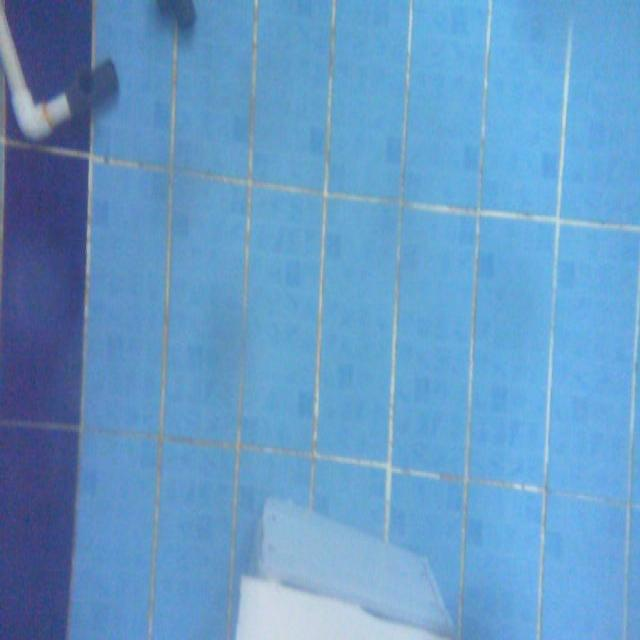Cube: (0, 0, 639, 638)
Cuboid: (238, 487, 458, 638)
